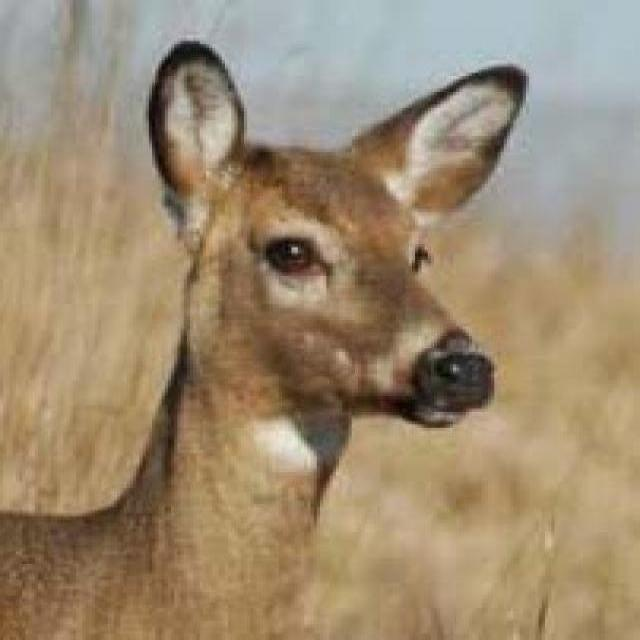deer: (4, 37, 524, 640)
